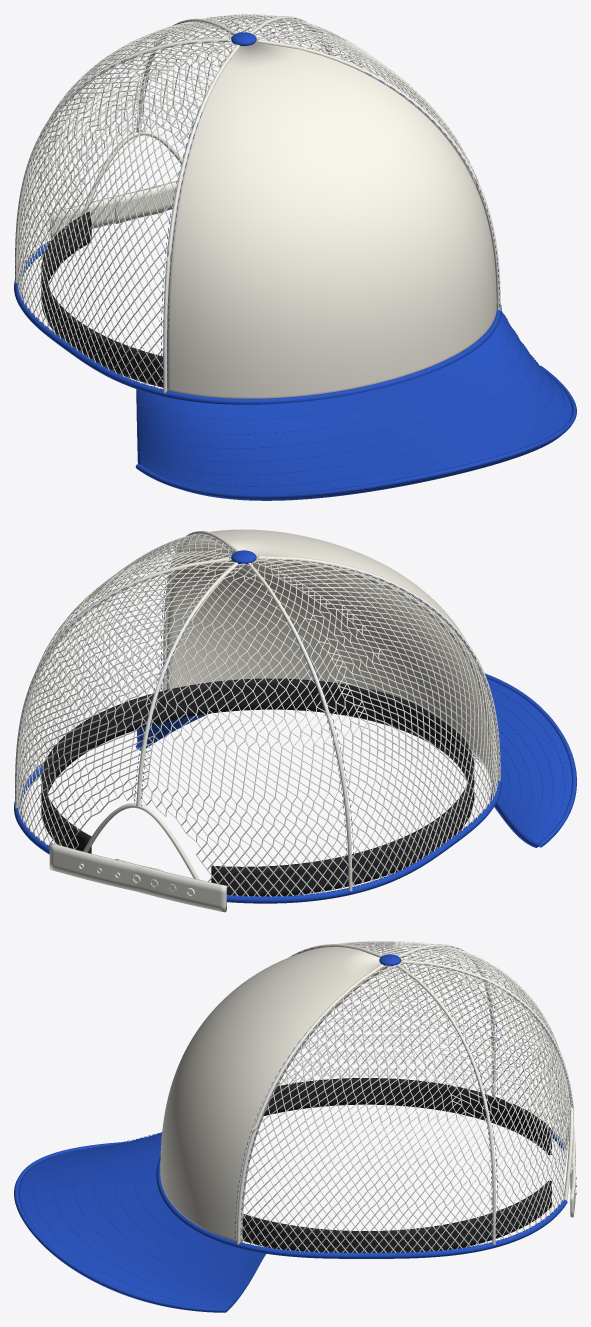
File: trucker-cobalt.glb
3 renders of one model, top to bottom at view 1: azimuth 30°, elevation 25°; view 2: azimuth 150°, elevation 25°; view 3: azimuth 270°, elevation 25°, orthographic. The views are drawn at different scales.
Parts seen in each view (by area): view 1: Front panel / color / complete construction, Brim / color / complete construction, Open mesh / color / complete construction, Interior sweatband / complete construction, Topstitch / color / complete construction, Snapback / color / complete construction; view 2: Open mesh / color / complete construction, Front panel / color / complete construction, Interior sweatband / complete construction, Brim / color / complete construction, Snapback / color / complete construction, Topstitch / color / complete construction; view 3: Open mesh / color / complete construction, Front panel / color / complete construction, Brim / color / complete construction, Interior sweatband / complete construction, Topstitch / color / complete construction.
Part boxes in pixels (bbox=[...]): Front panel / color / complete construction: bbox=[15, 16, 500, 398]; Brim / color / complete construction: bbox=[14, 32, 576, 500]; Open mesh / color / complete construction: bbox=[17, 14, 496, 389]; Interior sweatband / complete construction: bbox=[41, 212, 163, 387]; Topstitch / color / complete construction: bbox=[15, 18, 564, 486]; Snapback / color / complete construction: bbox=[49, 181, 177, 238]; Open mesh / color / complete construction: bbox=[18, 533, 497, 896]; Front panel / color / complete construction: bbox=[15, 529, 500, 891]; Interior sweatband / complete construction: bbox=[41, 678, 474, 896]; Brim / color / complete construction: bbox=[14, 550, 576, 903]; Snapback / color / complete construction: bbox=[49, 843, 226, 912]; Topstitch / color / complete construction: bbox=[15, 532, 564, 889]; Open mesh / color / complete construction: bbox=[240, 941, 570, 1253]; Front panel / color / complete construction: bbox=[160, 944, 573, 1244]; Brim / color / complete construction: bbox=[14, 954, 567, 1312]; Interior sweatband / complete construction: bbox=[242, 1078, 551, 1252]; Topstitch / color / complete construction: bbox=[33, 946, 572, 1306].
Bounding box in the file's own units: 0.2024 × 0.1506 × 0.2816.
